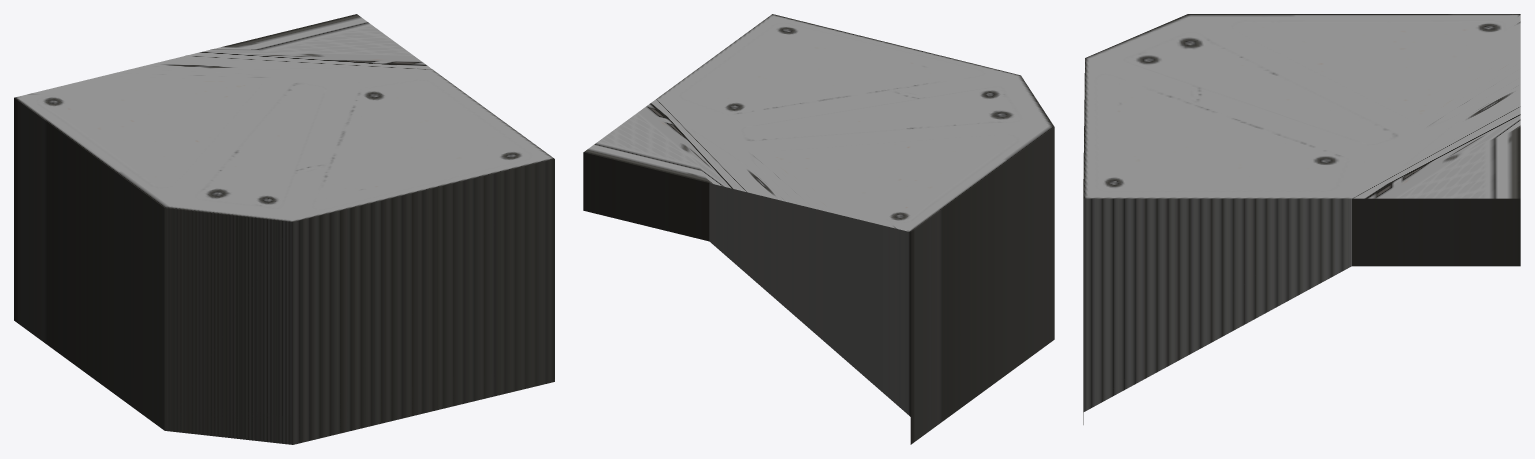
File: A_Ceiling_Corner_In_2x2.FBX
3 renders of one model, left to right at view 1: azimuth 30°, elevation 25°; view 2: azimuth 150°, elevation 25°; view 3: azimuth 270°, elevation 25°, orthographic. The views are drawn at different scales.
Parts seen in each view (by area): view 1: A_Ceiling_Corner_In_2x2; view 2: A_Ceiling_Corner_In_2x2; view 3: A_Ceiling_Corner_In_2x2.
Boxes of the visible parts, bbox=[...] form: A_Ceiling_Corner_In_2x2: bbox=[14, 14, 554, 444]; A_Ceiling_Corner_In_2x2: bbox=[583, 14, 1054, 444]; A_Ceiling_Corner_In_2x2: bbox=[1083, 14, 1520, 424].
Bounding box in the file's own units: 176 × 109 × 176.
